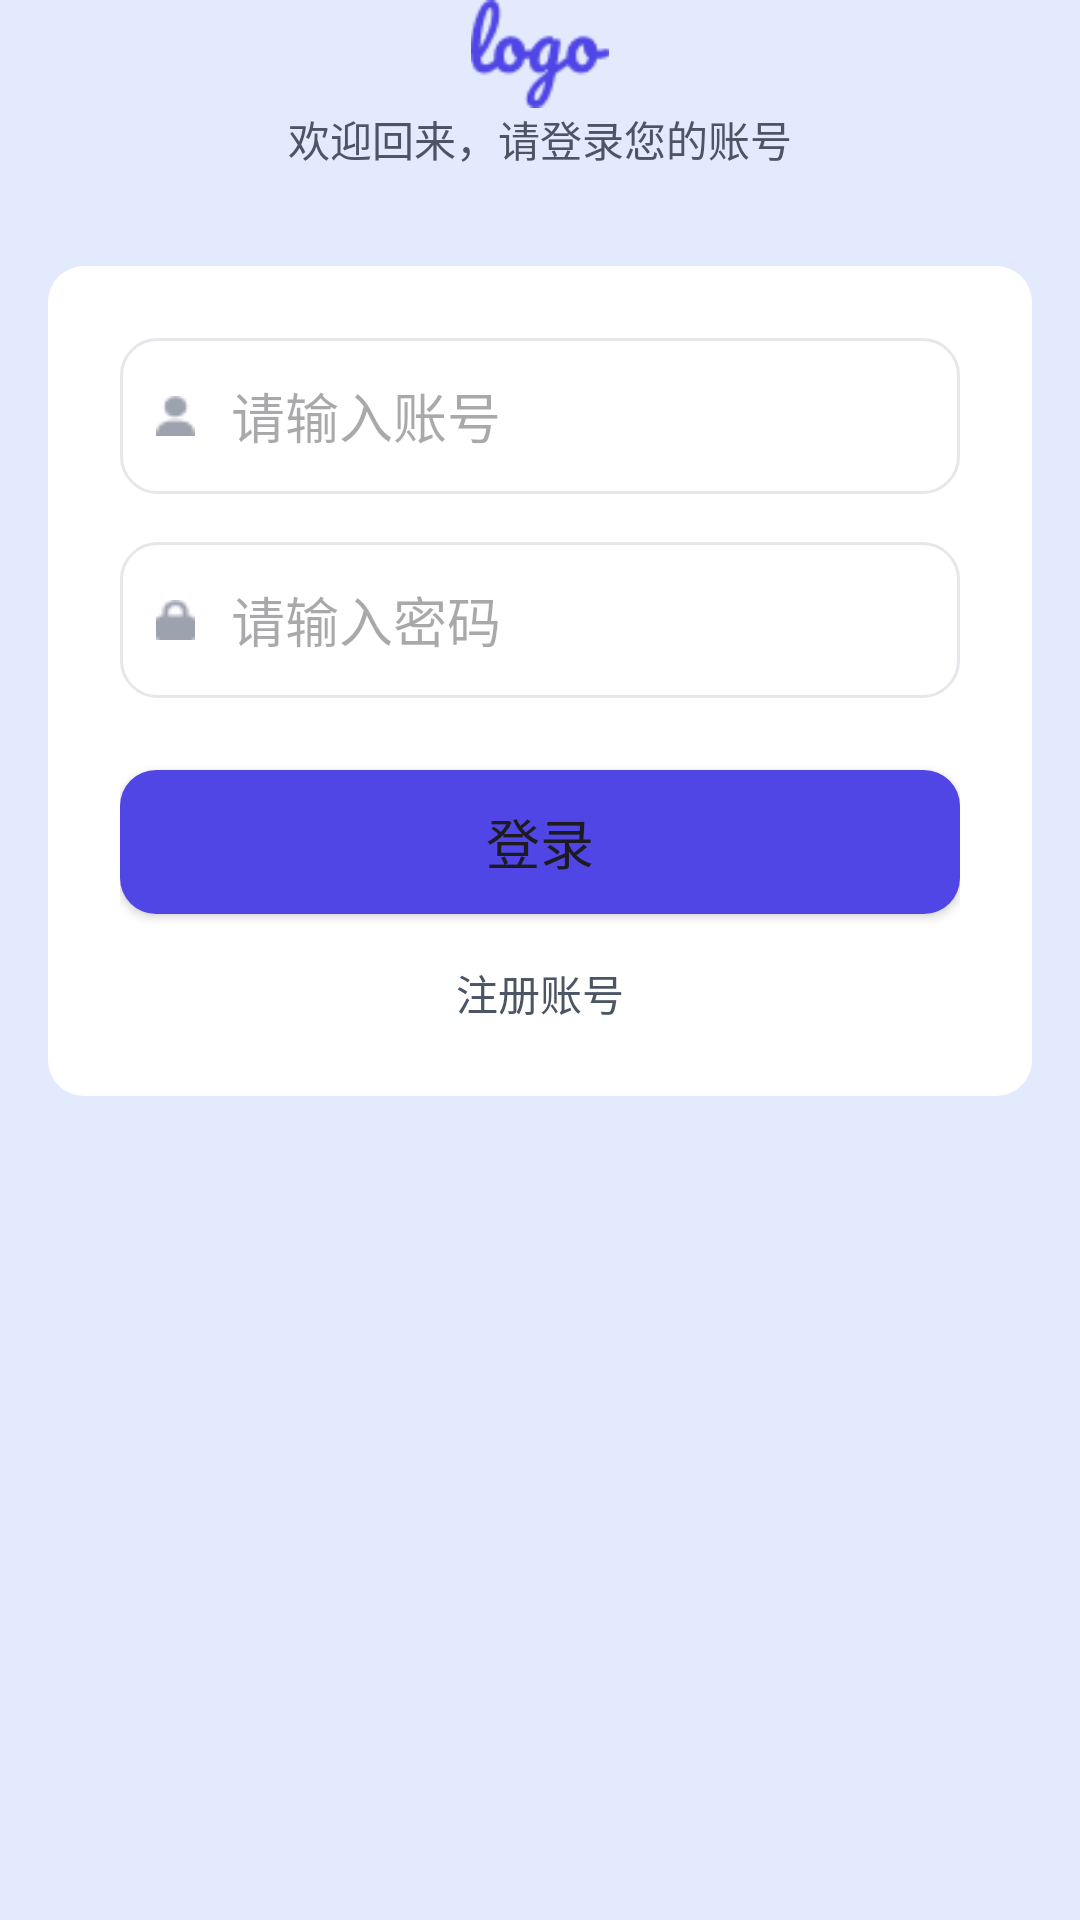

Where to tap for icons on this 1080x1920 app screen, as point (x, y):
account: point (175, 416)
lock: point (175, 620)
